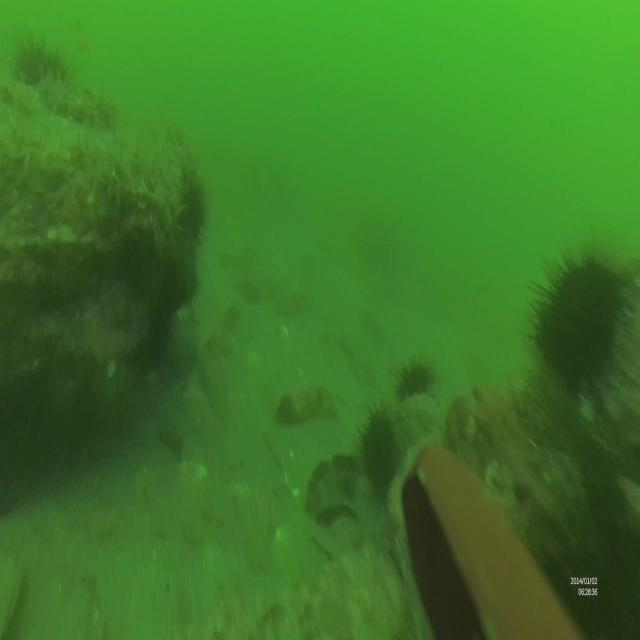echinus: (527, 240, 627, 379), (358, 404, 400, 496), (12, 28, 72, 92), (168, 234, 202, 327), (394, 351, 433, 397), (183, 175, 207, 244)
